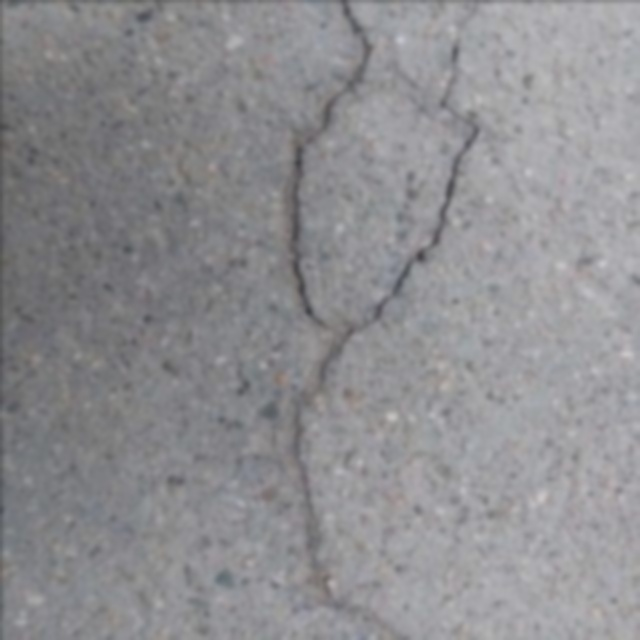SurfaceCrack: (256, 0, 498, 636)
